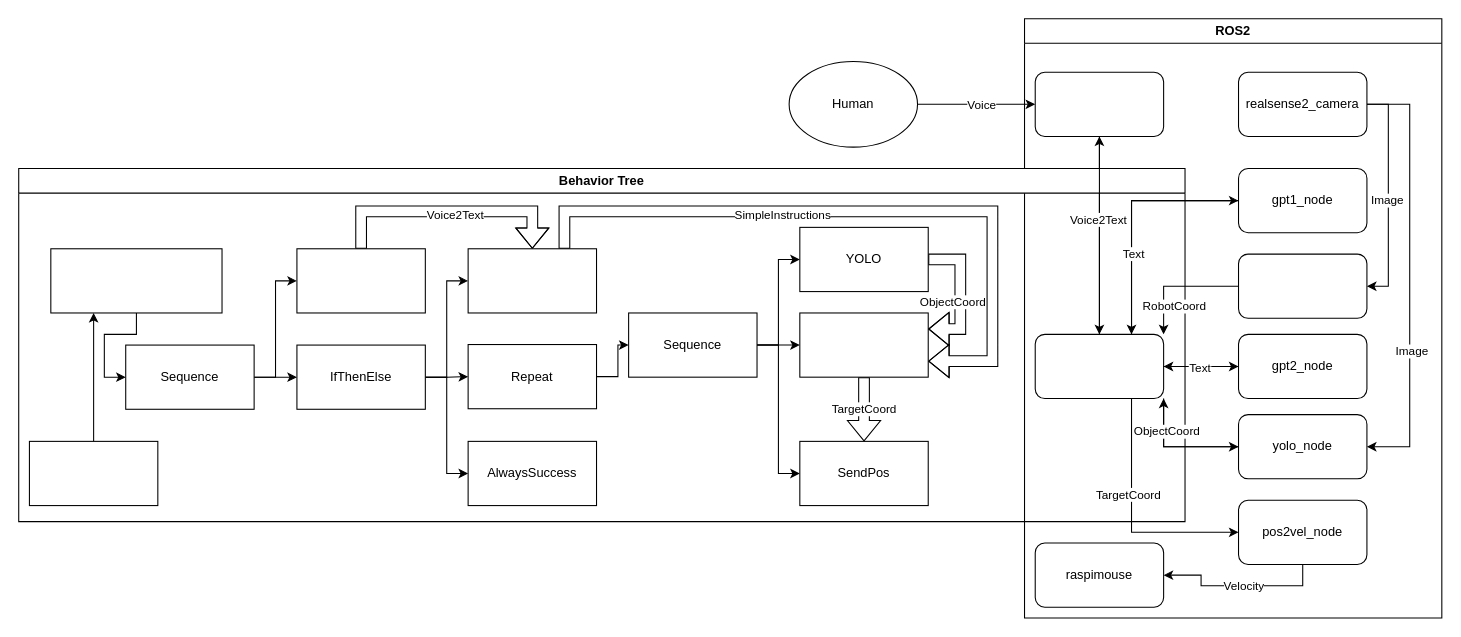
This 1461x637 diagram has some shape labels left out. The shapes that lost their labels are listed below. From the top down, each one's centre as x and y in pixels, then its label:
At [1099,103]: "vosk_node".
At [136,280]: "KeepRunningUntilFailure".
At [360,280]: "VOSK".
At [532,280]: "GPT1".
At [1302,285]: "ar_node".
At [863,344]: "GPT2".
At [1099,366]: "bt_node".
At [93,473]: "Root".
